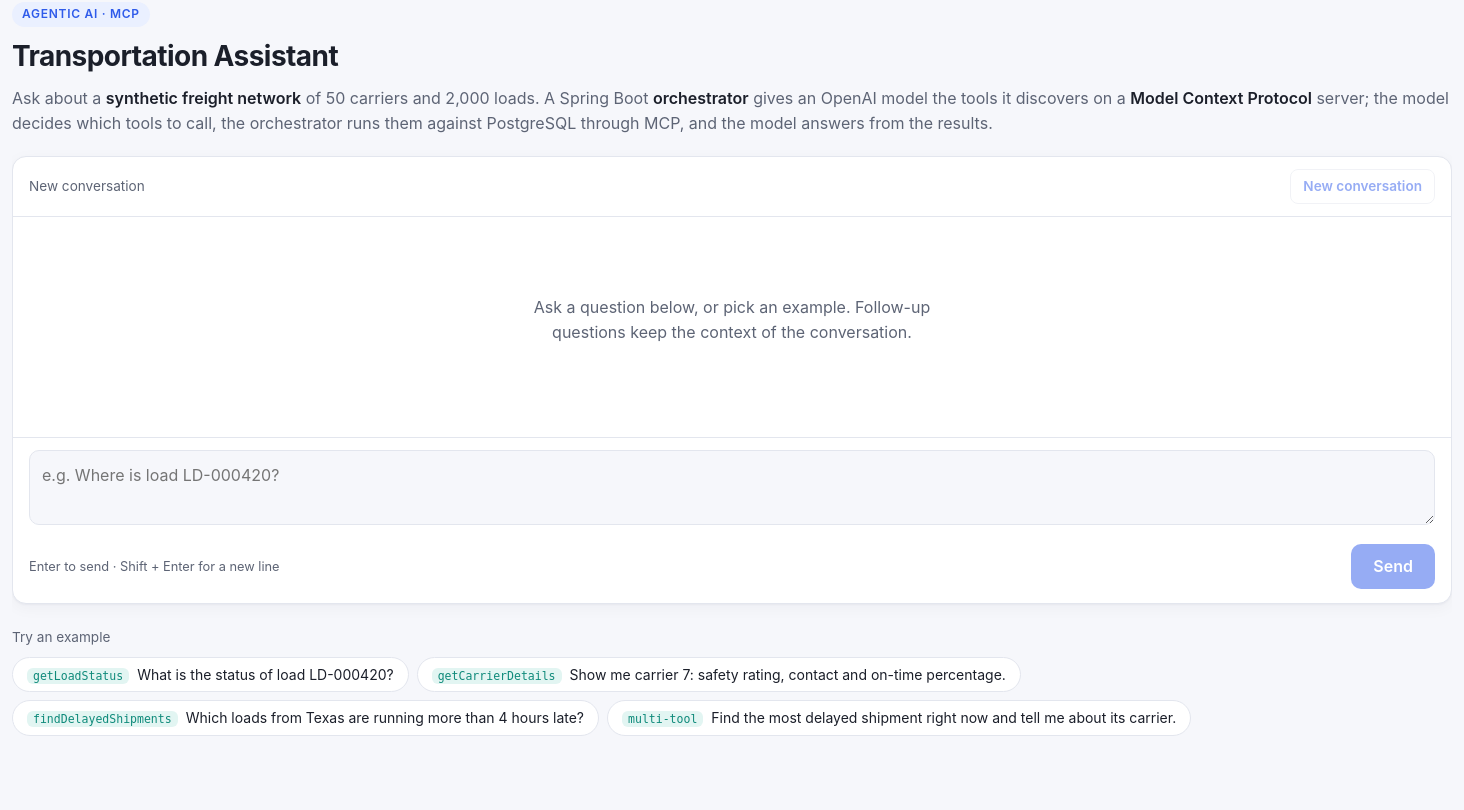
Test case: TransportationAssistant › keeps the conversationId for follow-up messages
Type "Where is load 420?" into the text box named "message the transportation assistant".
click(732, 487); type("Where is load 420?")  # box [29,450,1435,525]
Then press Enter
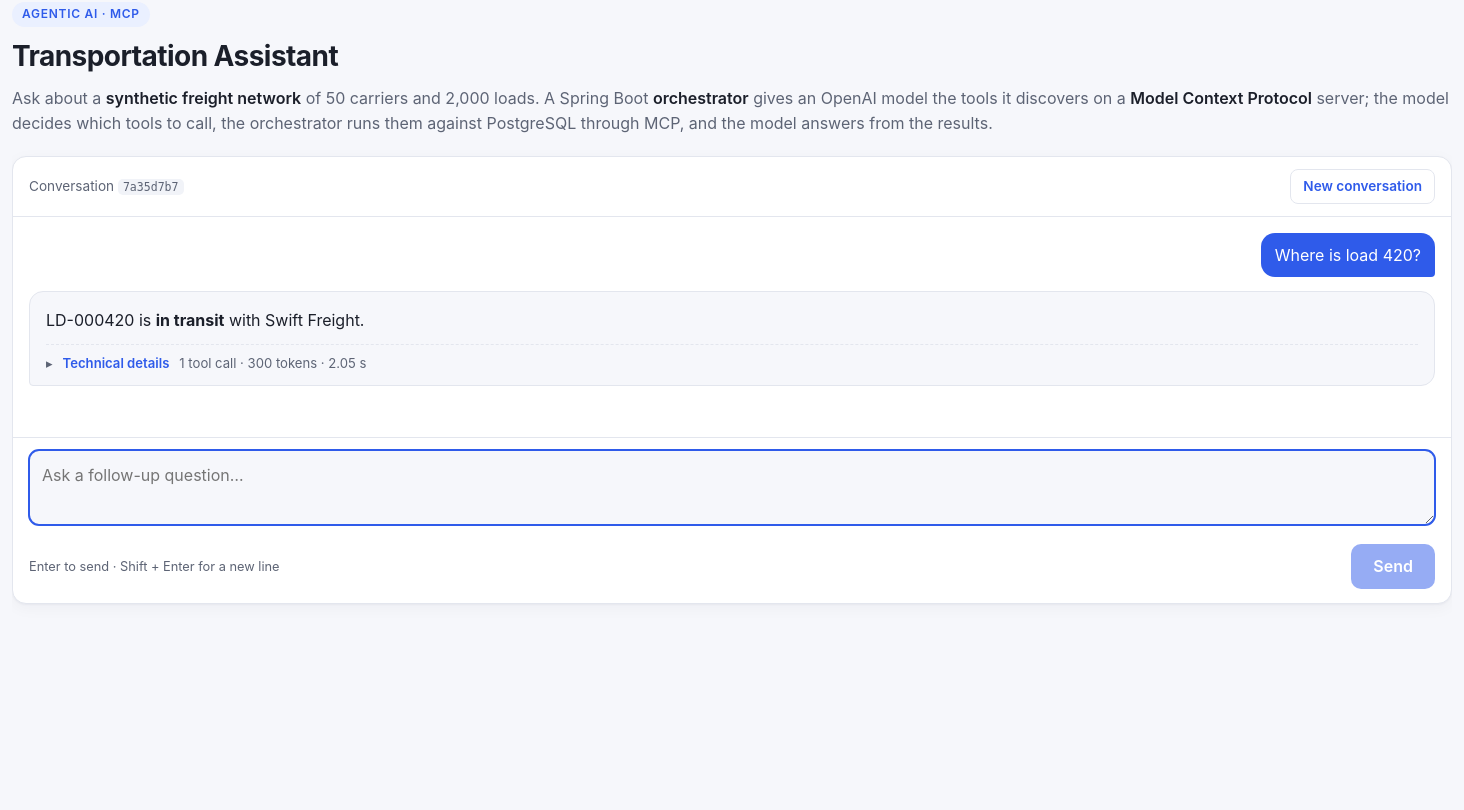
Check: the text "in transit" is shown, box [156,310,224,330]
Type "Who is the carrier?" into the text box named "message the transportation assistant".
click(732, 487); type("Who is the carrier?")  # box [29,450,1435,525]
Then press Enter
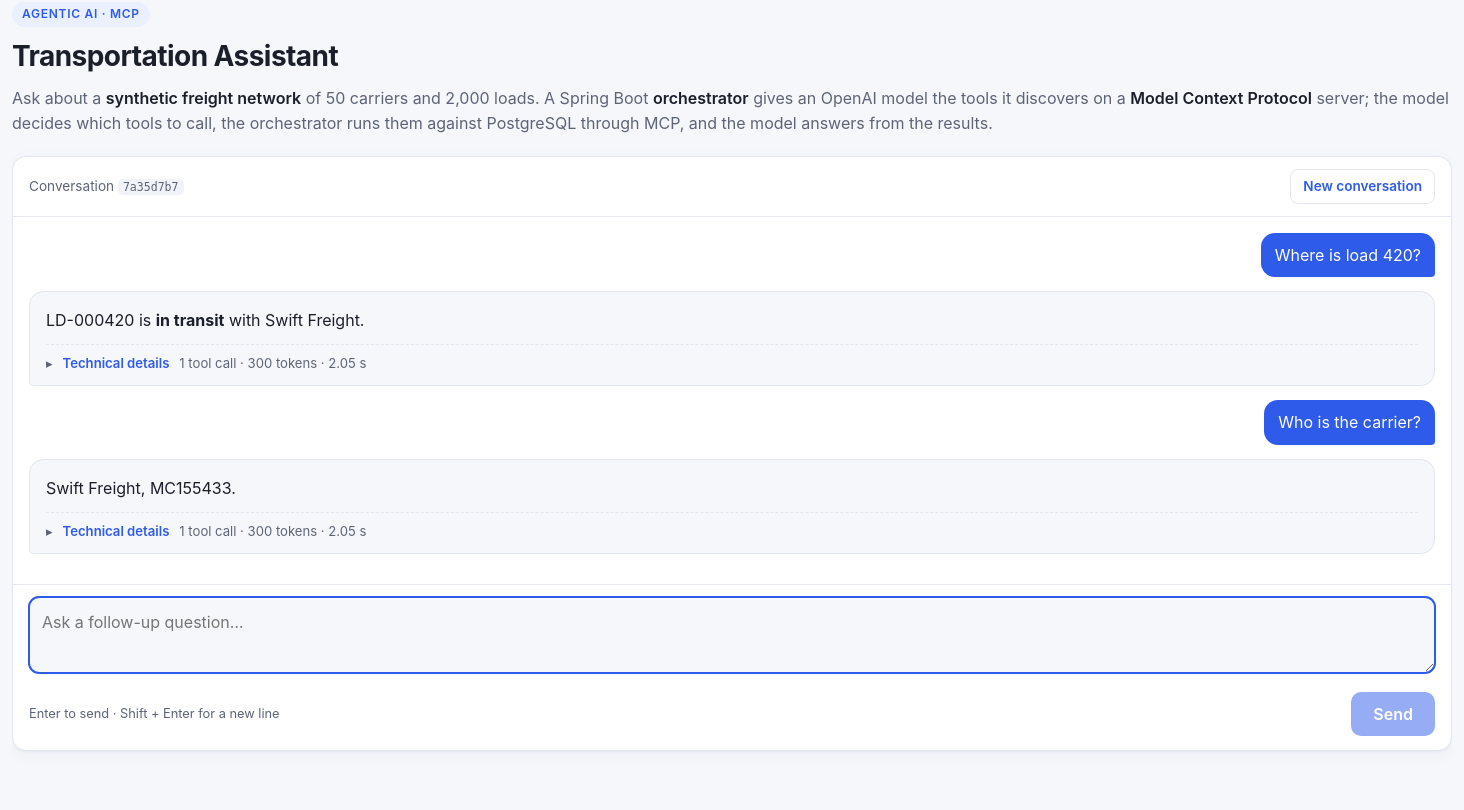
Check: the text "Swift Freight, MC155433." is shown, box [46,478,236,498]
